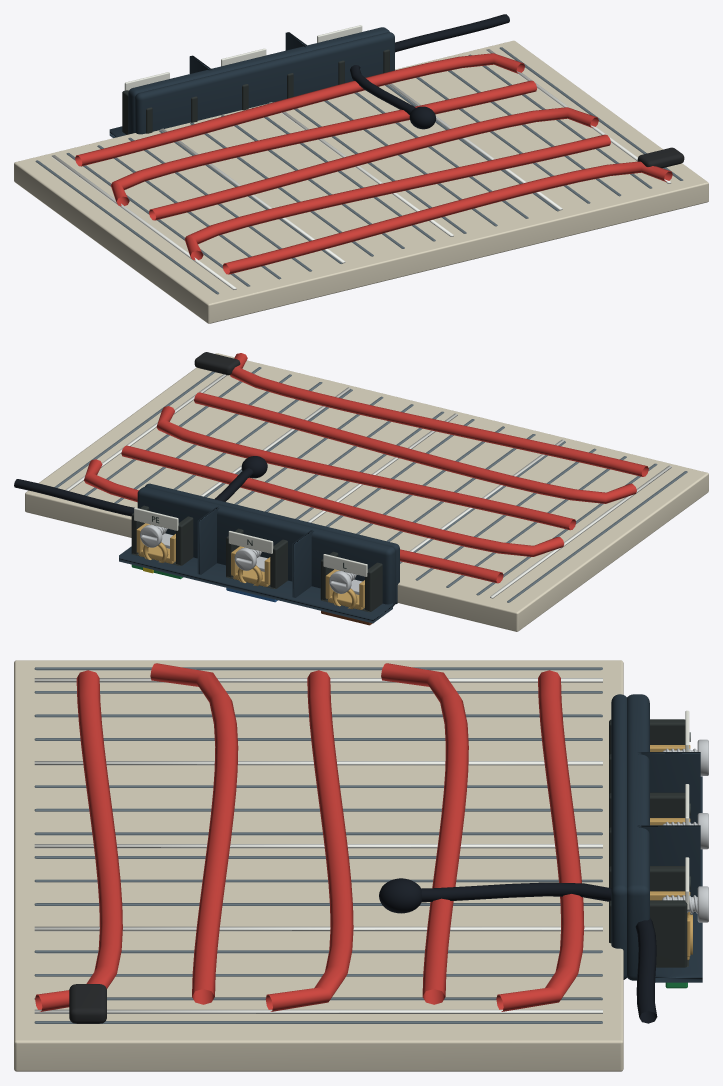
Rendered from heater_mat.glb.
The picture shows the model from 3 angles, top to bottom: view 1: azimuth 30°, elevation 25°; view 2: azimuth 150°, elevation 25°; view 3: azimuth 270°, elevation 25°; orthographic projection. The views are drawn at different scales.
Parts seen in each view (by area): view 1: part:body, part:element · Original b2804608, part:terminals · Original a463fd81, part:body · Original 0905ee26, detail:heat-transfer-construction · Detail porcelain white, part:body.001 · Original 3ff2d46d, Cold tail sealed splice, detail:terminal-clamp:L · Detail moulded engineering polymer; view 2: part:body, part:element · Original b2804608, part:terminals · Original a463fd81, part:body · Original 0905ee26, detail:heat-transfer-construction · Detail porcelain white, part:body.001 · Original 3ff2d46d, detail:terminal-clamp:L · Detail moulded engineering polymer, detail:terminal-clamp:PE · Detail moulded engineering polyme, detail:terminal-clamp:N · Detail moulded engineering polymer, detail:terminal-clamp:N · Detail machined brass, detail:terminal-clamp:PE · Detail machined brass, detail:terminal-clamp:L · Detail machined brass (+7 smaller); view 3: part:body, part:element · Original b2804608, part:body · Original 0905ee26, part:terminals · Original a463fd81, detail:heat-transfer-construction · Detail porcelain white, part:body.001 · Original 3ff2d46d, detail:terminal-clamp:PE · Detail moulded engineering polyme, Cold tail sealed splice, detail:terminal-clamp:L · Detail moulded engineering polymer, detail:terminal-clamp:N · Detail moulded engineering polymer, detail:terminal-clamp:PE · Detail zinc plated fixing.
Boxes of the visible parts, x1,y1,x2,y2 form: part:body: (14, 40, 708, 323); part:element · Original b2804608: (75, 53, 672, 274); part:terminals · Original a463fd81: (109, 27, 394, 137); part:body · Original 0905ee26: (35, 47, 683, 294); detail:heat-transfer-construction · Detail porcelain white: (51, 49, 671, 289); part:body.001 · Original 3ff2d46d: (350, 14, 509, 129); Cold tail sealed splice: (637, 147, 684, 168); detail:terminal-clamp:L · Detail moulded engineering polymer: (122, 90, 197, 134); part:body: (25, 353, 708, 631); part:element · Original b2804608: (84, 353, 648, 583); part:terminals · Original a463fd81: (119, 483, 399, 623); part:body · Original 0905ee26: (54, 367, 687, 602); detail:heat-transfer-construction · Detail porcelain white: (65, 374, 671, 598); part:body.001 · Original 3ff2d46d: (14, 456, 267, 516); detail:terminal-clamp:L · Detail moulded engineering polymer: (320, 551, 382, 612); detail:terminal-clamp:PE · Detail moulded engineering polyme: (131, 505, 193, 565); detail:terminal-clamp:N · Detail moulded engineering polymer: (226, 528, 287, 588); detail:terminal-clamp:N · Detail machined brass: (231, 546, 270, 586); detail:terminal-clamp:PE · Detail machined brass: (136, 523, 175, 563); detail:terminal-clamp:L · Detail machined brass: (325, 569, 364, 609); part:body: (14, 660, 623, 1071); part:element · Original b2804608: (35, 663, 584, 1011); part:body · Original 0905ee26: (34, 667, 602, 1023); part:terminals · Original a463fd81: (611, 694, 702, 982); detail:heat-transfer-construction · Detail porcelain white: (34, 678, 602, 1013); part:body.001 · Original 3ff2d46d: (379, 878, 657, 1023); detail:terminal-clamp:PE · Detail moulded engineering polyme: (609, 866, 688, 967); Cold tail sealed splice: (69, 984, 106, 1023); detail:terminal-clamp:L · Detail moulded engineering polymer: (609, 719, 685, 794); detail:terminal-clamp:N · Detail moulded engineering polymer: (609, 792, 685, 867); detail:terminal-clamp:PE · Detail zinc plated fixing: (662, 886, 708, 922).
Bounding box in the file's own units: 1.29 × 0.168 × 0.9926.
